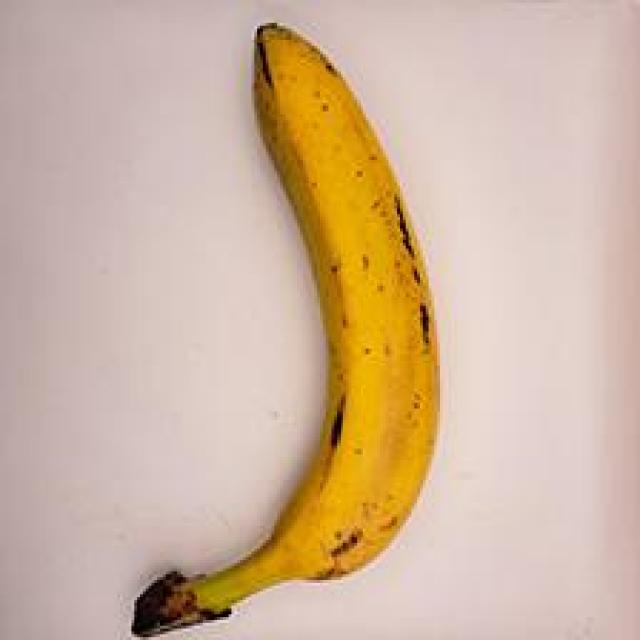Overripe: (94, 8, 462, 640)
